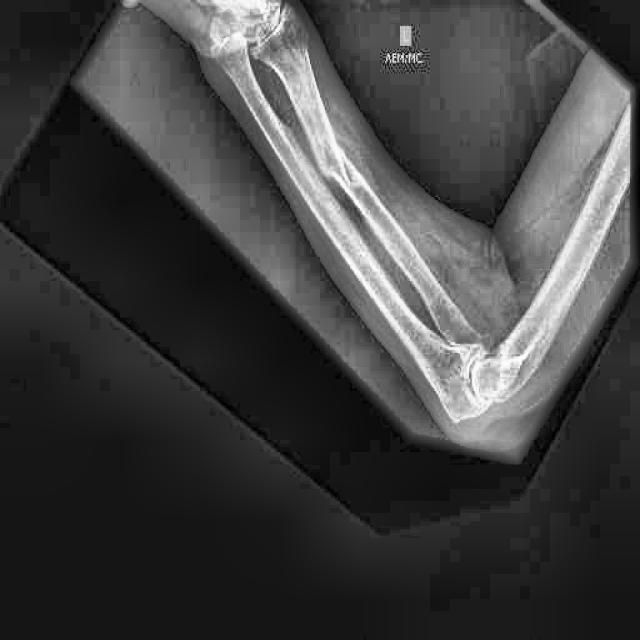forearm fracture: (295, 107, 383, 226)
